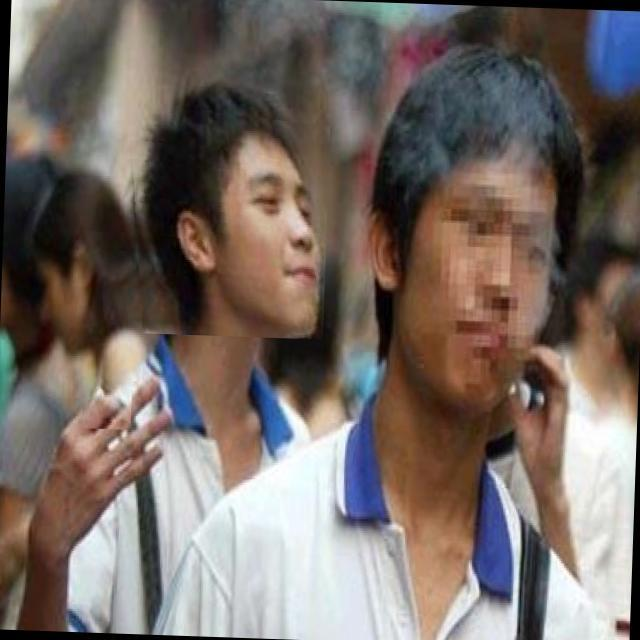cigarette: (77, 370, 132, 430)
